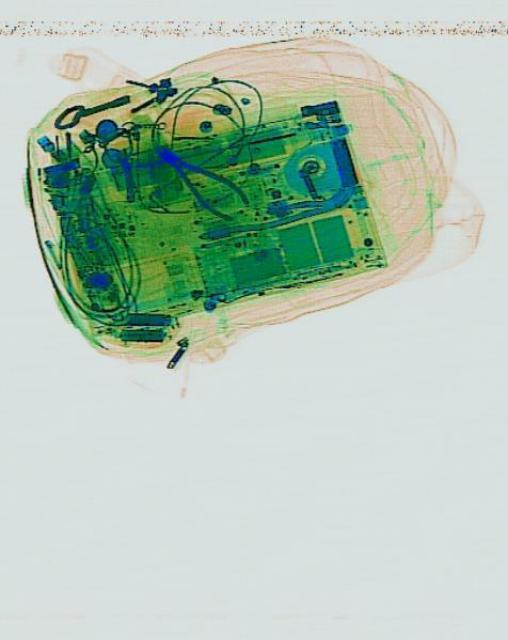Pliers: (147, 129, 250, 229)
